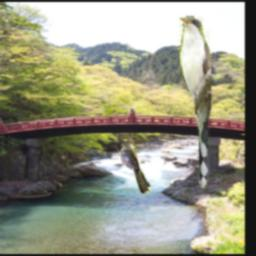Cuckoo: (179, 17, 211, 189), (121, 139, 152, 194)
